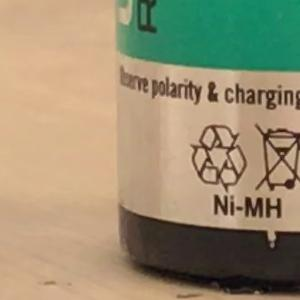NI-MH: (204, 187, 292, 225)
